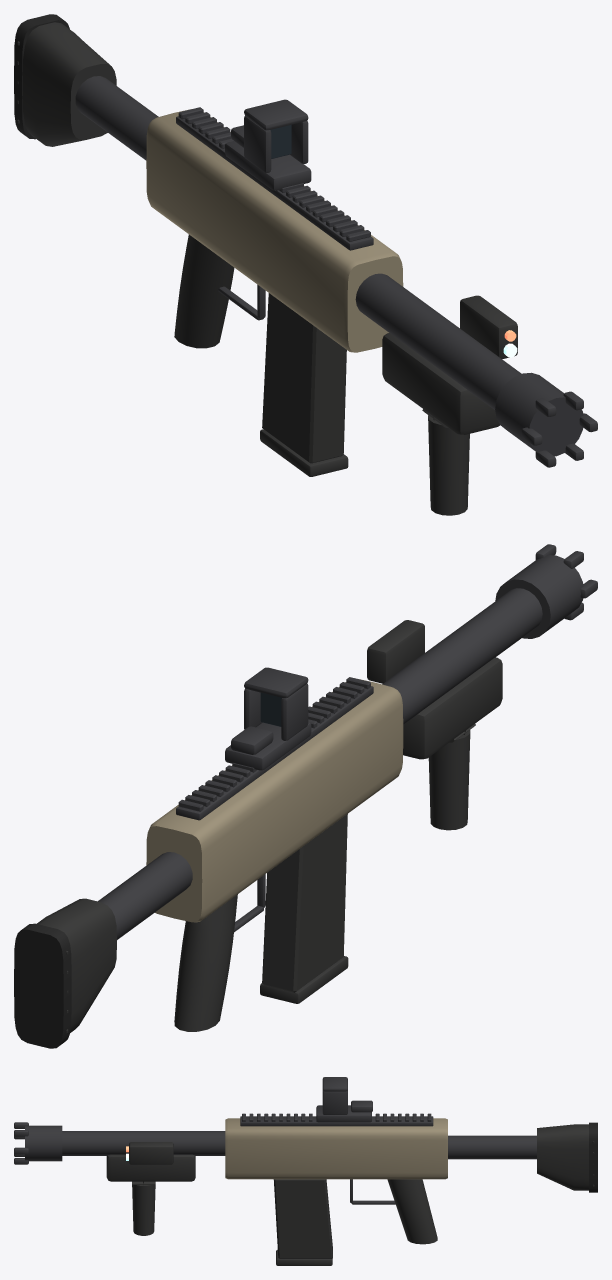
Rendered from breecher.glb.
3 renders of one model, top to bottom at view 1: azimuth 30°, elevation 25°; view 2: azimuth 150°, elevation 25°; view 3: azimuth 270°, elevation 25°, orthographic. The views are drawn at different scales.
Visible parts, largest first — view 1: Body, opt_laser; view 2: Body, opt_laser; view 3: Body, opt_laser.
Part boxes in pixels (left/top/right/bottom): Body: left=14, top=14, right=597, bottom=515; opt_laser: left=460, top=295, right=517, bottom=359; Body: left=14, top=544, right=597, bottom=1048; opt_laser: left=367, top=620, right=424, bottom=683; Body: left=14, top=1077, right=597, bottom=1265; opt_laser: left=126, top=1142, right=173, bottom=1164.
Size of the model in its own units: 0.077 by 0.266 by 0.787.
